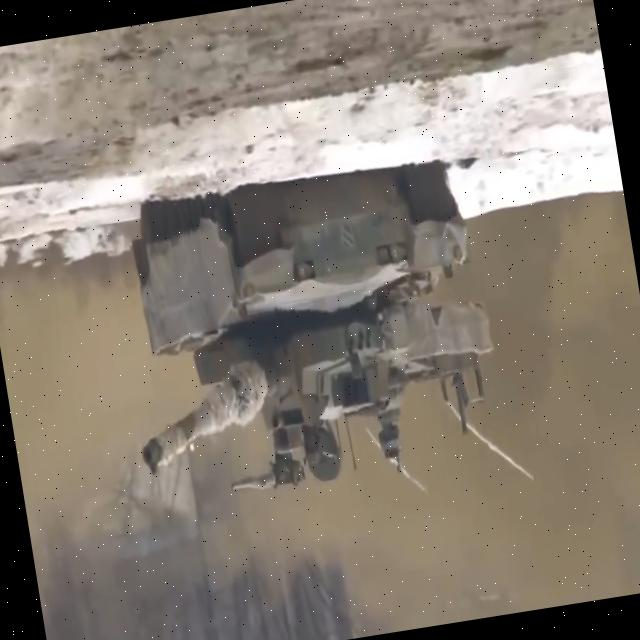korea tank: (100, 145, 514, 513)
